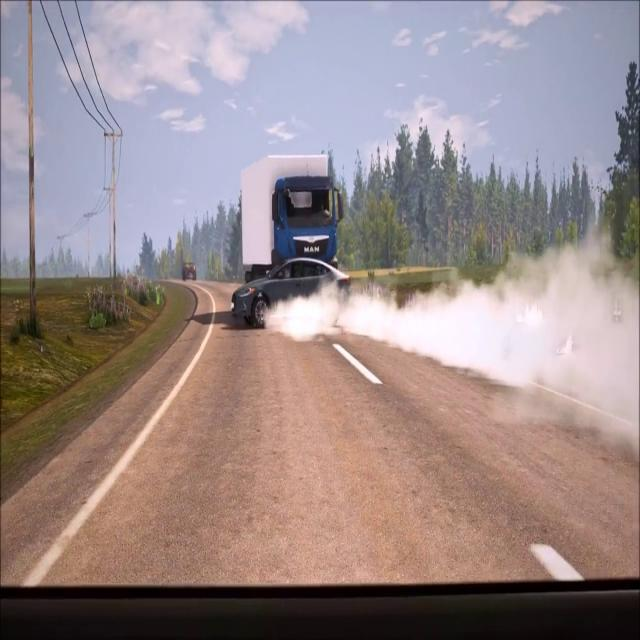accident: (232, 152, 354, 332)
